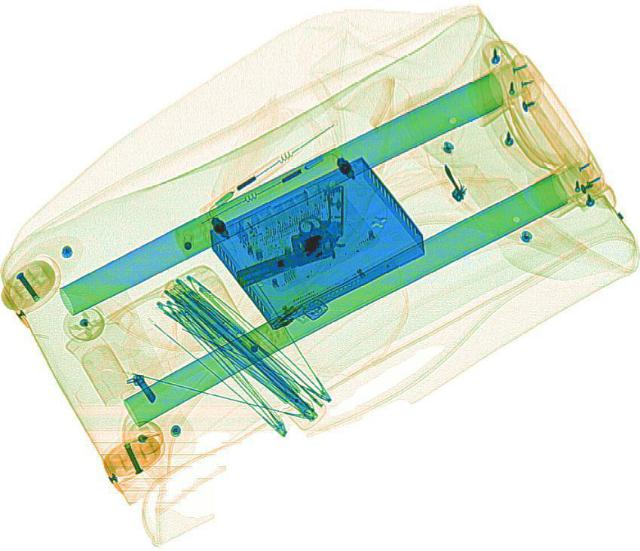Gun: (208, 184, 374, 291)
